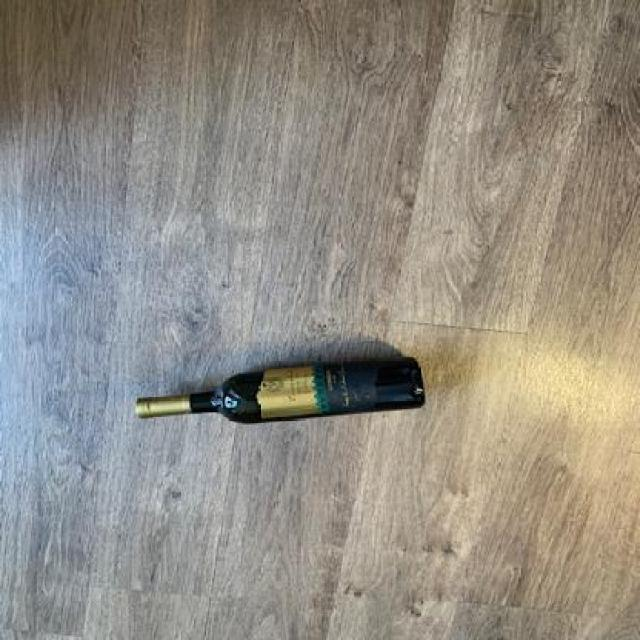trash: (129, 355, 428, 433)
